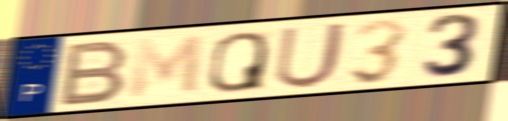3: (347, 17, 416, 87), (419, 11, 486, 80)
B: (56, 37, 133, 109)
M: (127, 33, 206, 102)
Q: (205, 29, 270, 95)
U: (271, 20, 351, 91)
